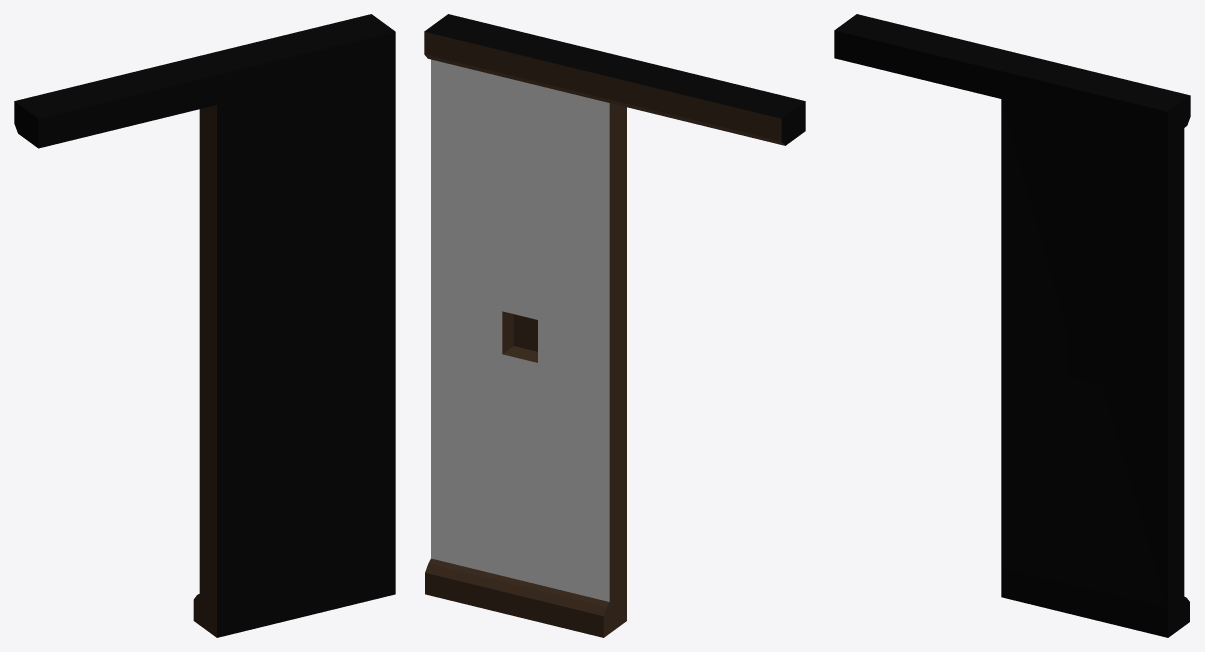
File: Wall_ButtonWall.fbx
The picture shows the model from 3 angles, left to right: view 1: azimuth 30°, elevation 25°; view 2: azimuth 150°, elevation 25°; view 3: azimuth 330°, elevation 25°; orthographic projection. The views are drawn at different scales.
Visible parts, largest first — view 1: Cube.177; view 2: Cube.177; view 3: Cube.177.
Boxes of the visible parts, x1,y1,x2,y2 form: Cube.177: [14, 14, 395, 637]; Cube.177: [424, 14, 805, 637]; Cube.177: [834, 14, 1190, 637].
Size of the model in its own units: 0.2334 by 2 by 3.01.
